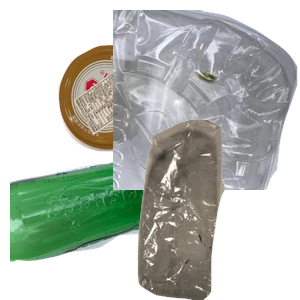glass: (10, 149, 203, 300)
metal: (56, 43, 211, 187)
plastic: (113, 10, 300, 190)
trash: (114, 120, 300, 300)
